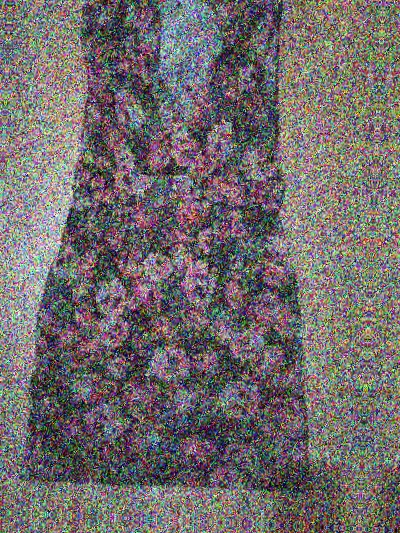Dress: (25, 0, 345, 496)
